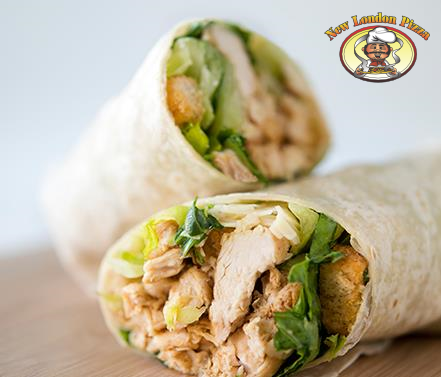soup: (38, 17, 347, 362)
